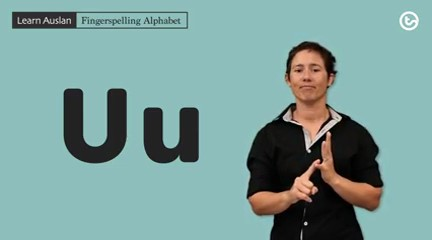U: (280, 127, 347, 211)
